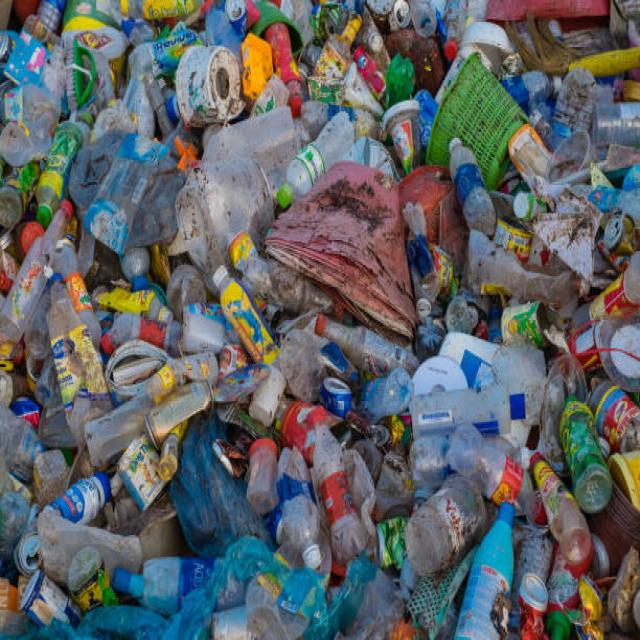trash: (13, 25, 620, 579)
